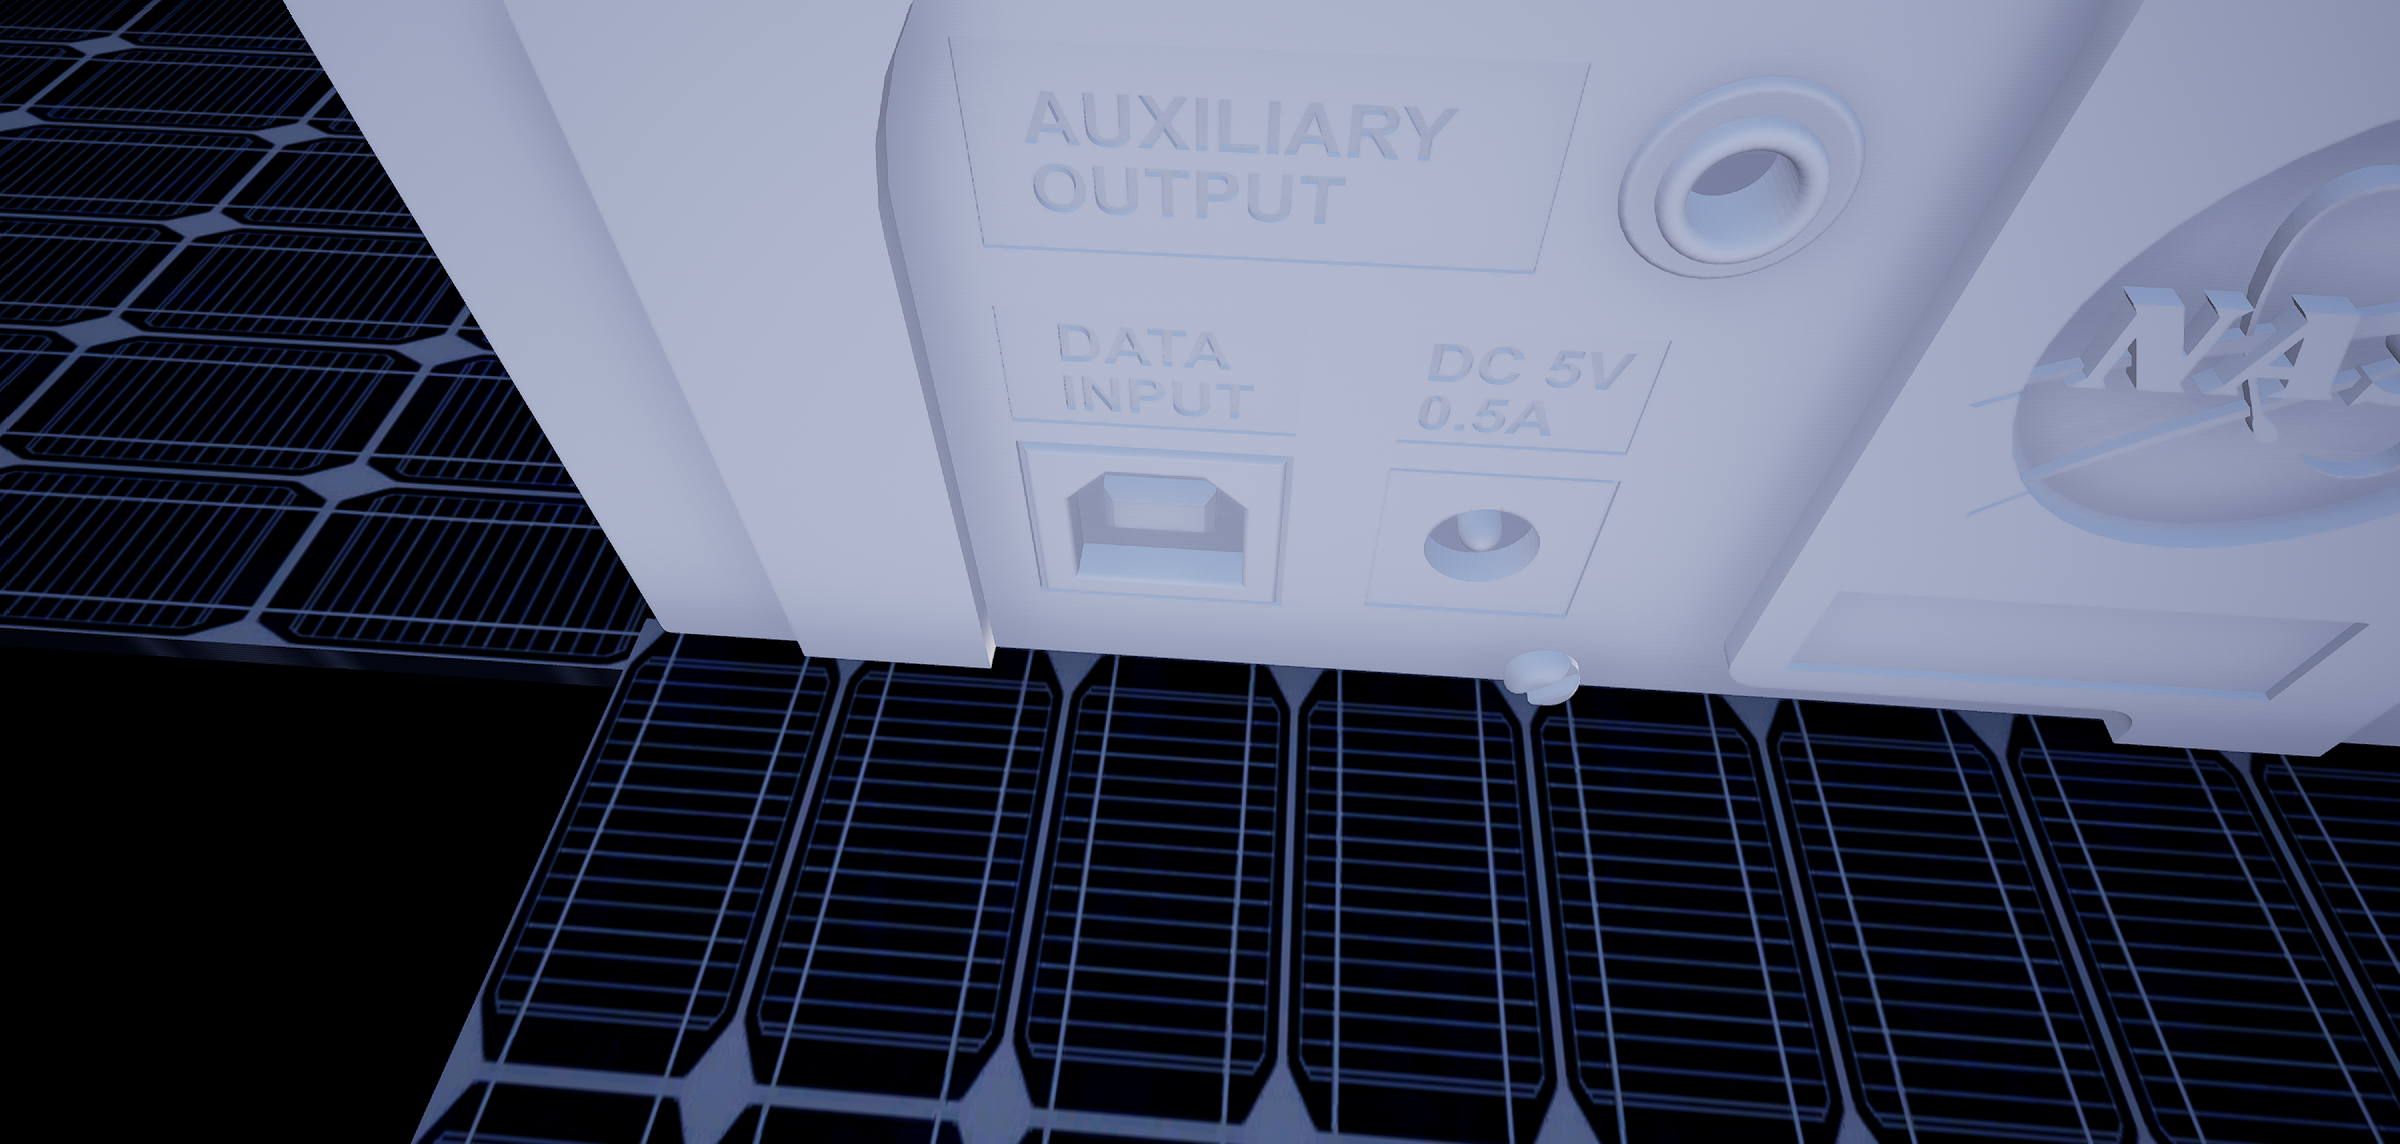aux: (1615, 70, 1878, 296)
dc: (1414, 490, 1560, 603)
usb: (1055, 461, 1257, 594)
